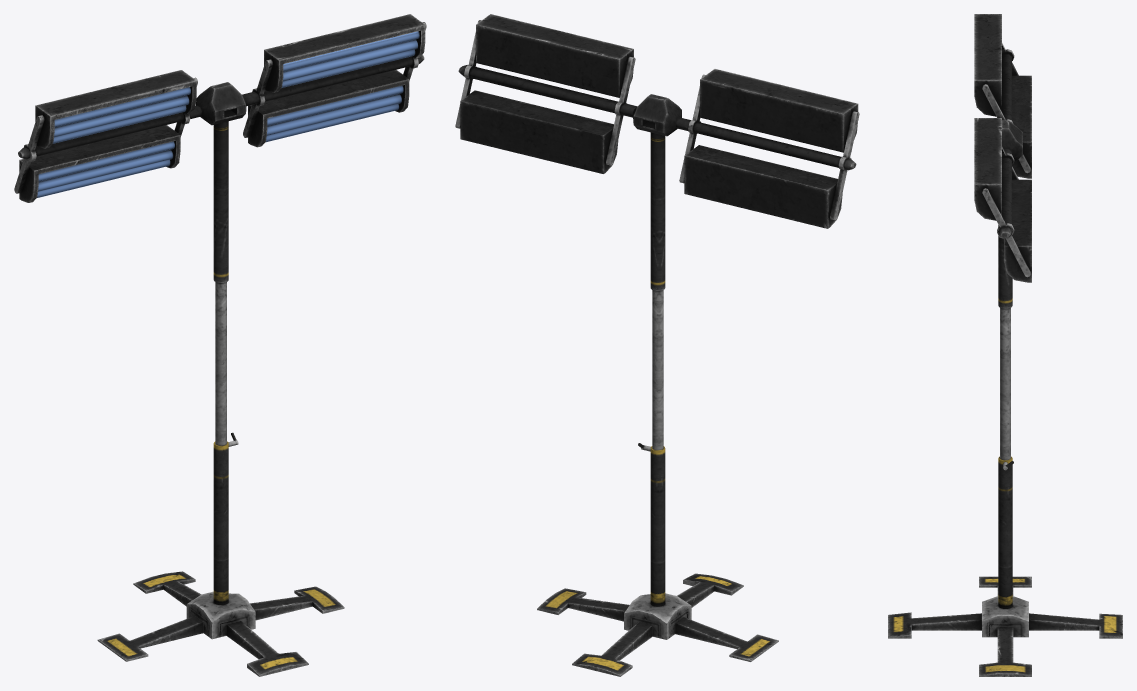
The model's file is spotlight2.obj.
The picture shows the model from 3 angles, left to right: view 1: azimuth 30°, elevation 25°; view 2: azimuth 150°, elevation 25°; view 3: azimuth 270°, elevation 25°; orthographic projection. The views are drawn at different scales.
Visible parts, largest first — view 1: Spotlight; view 2: Spotlight; view 3: Spotlight.
Boxes of the visible parts, <box> form: Spotlight: <box>14,14,426,676</box>; Spotlight: <box>455,14,859,676</box>; Spotlight: <box>888,14,1122,676</box>.
Bounding box in the file's own units: 184 × 248 × 100.
Materials: 1 (1 with a texture image).
